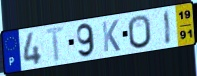4: (22, 31, 44, 66)
9: (76, 22, 97, 59)
I: (163, 9, 173, 46)
K: (101, 18, 122, 53)
O: (127, 14, 153, 50)
T: (44, 25, 67, 64)
